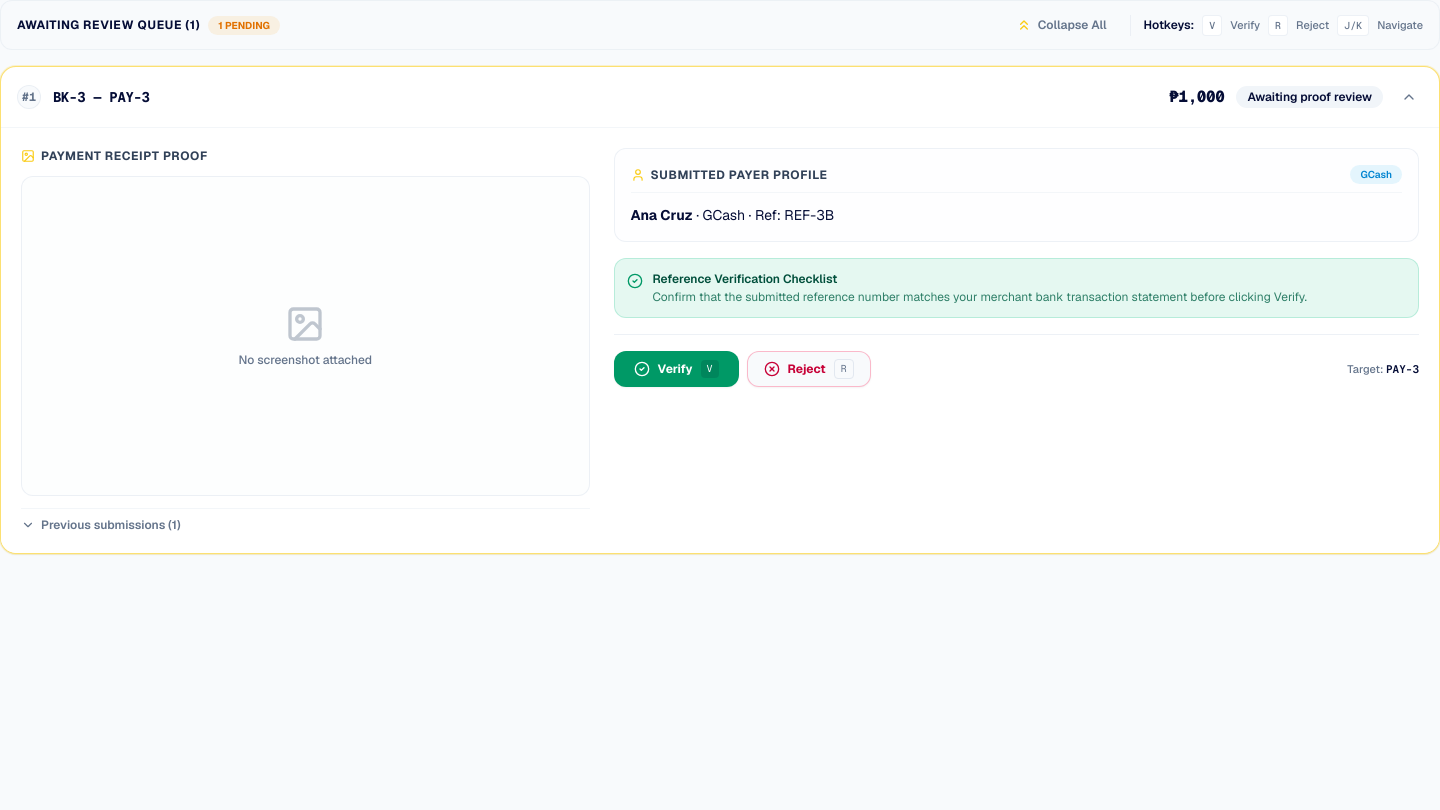
NeedsReviewQueue › shows a toggle for previous submissions when more than one submission exists
Check: the text "Ana Cruz" is shown, box [630,206,693,224]
Check: the text "REF-3A" is not shown
Click the button "Previous submissions (1)" at (101, 525), box [21,517,181,533]
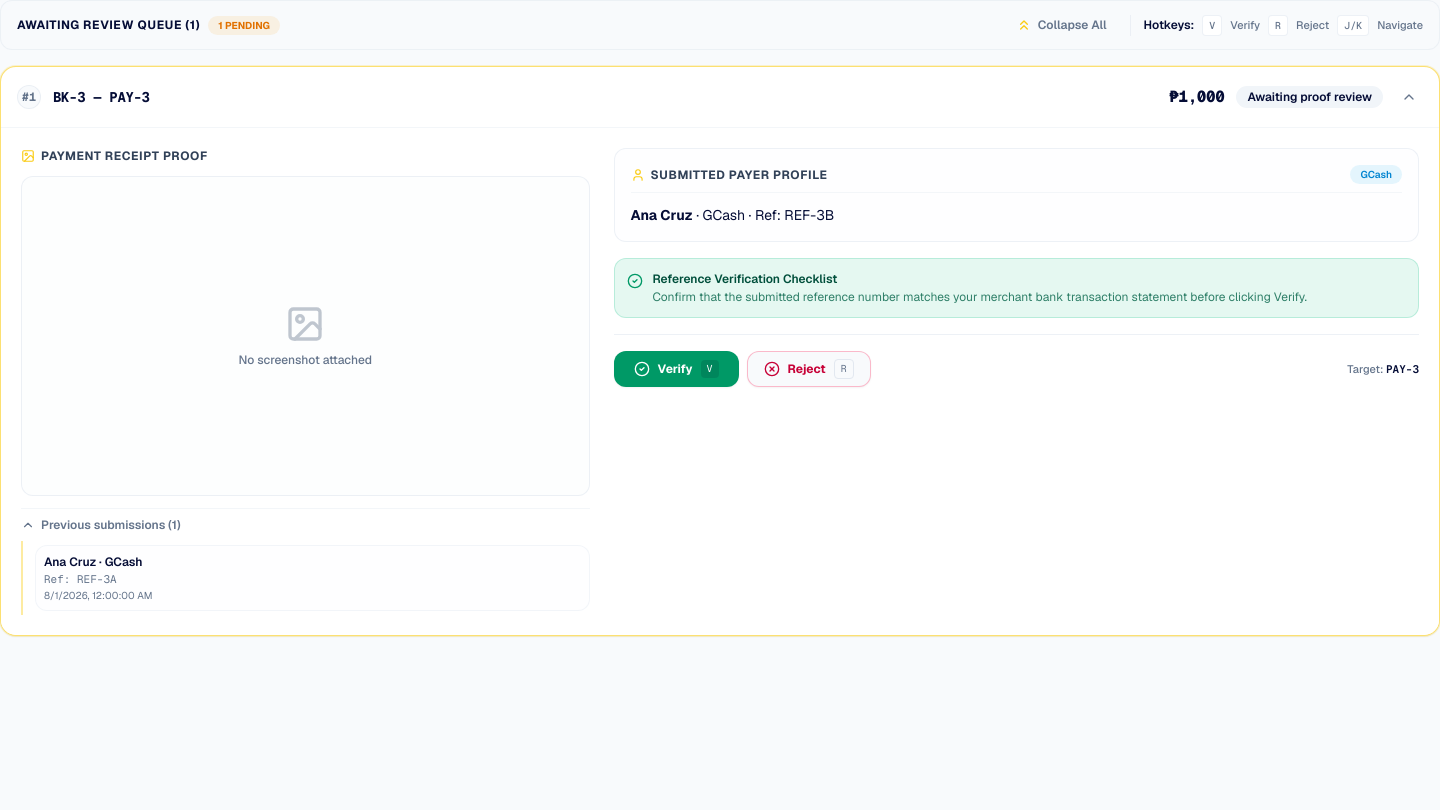
Check: the text "Ref: REF-3A" is shown, box [44,572,117,586]
